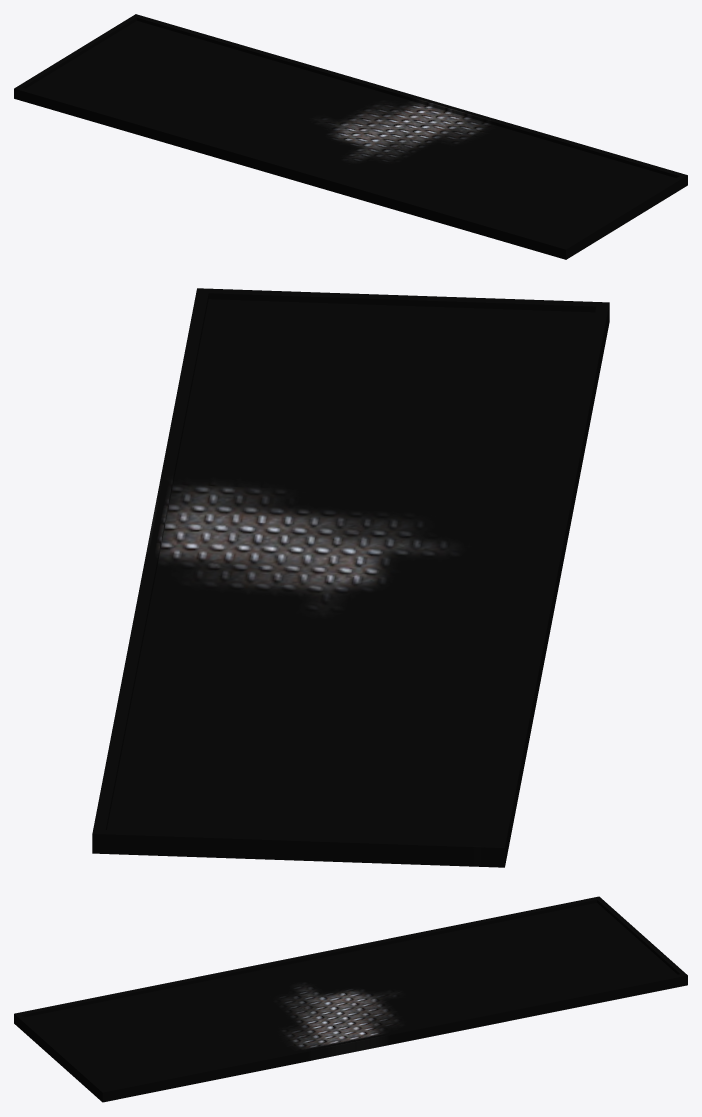
The model's file is bill2-object3.obj.
3 renders of one model, top to bottom at view 1: azimuth 30°, elevation 25°; view 2: azimuth 150°, elevation 25°; view 3: azimuth 270°, elevation 25°, orthographic. The views are drawn at different scales.
Size of the model in its own units: 6.39 by 0.1484 by 9.27.
Materials: 1 (1 with a texture image).
